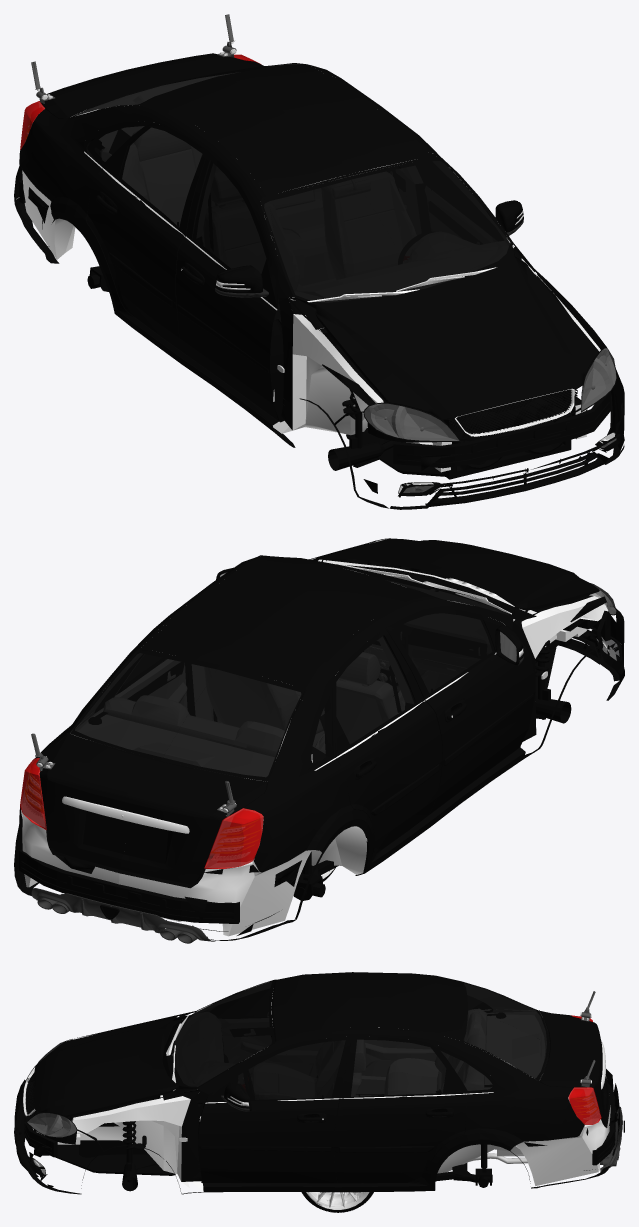
File: gentra.glb
3 views of the same model, one above another, from view 1: azimuth 30°, elevation 25°; view 2: azimuth 150°, elevation 25°; view 3: azimuth 270°, elevation 25° (orthographic). The views are drawn at different scales.
Visible parts, largest first — view 1: chassis, kapot, chassis003, door_rf_ok, door_rr_ok, bumper_r, boot, st002, bumper_f, chassis001, amartizator, Faralar_on (+1 smaller); view 2: chassis, boot, chassis001, door_rf_ok, door_rr_ok, kapot, bumper_r, st, amartizator, chassis003, Fara, rear_light (+1 smaller); view 3: chassis, door_lf_ok, door_lr_ok, kapot, chassis003, chassis001, boot, bumper_r, amartizator, st002, st, wheel_fr (+1 smaller).
Boxes of the visible parts, bbox=[...] form: chassis: bbox=[19, 60, 616, 479]; kapot: bbox=[316, 257, 598, 418]; chassis003: bbox=[262, 158, 509, 303]; door_rf_ok: bbox=[176, 152, 279, 421]; door_rr_ok: bbox=[86, 122, 208, 353]; bumper_r: bbox=[14, 150, 624, 509]; boot: bbox=[31, 14, 260, 118]; st002: bbox=[363, 347, 620, 496]; bumper_f: bbox=[425, 452, 605, 507]; chassis001: bbox=[72, 63, 302, 165]; amartizator: bbox=[87, 266, 403, 470]; Faralar_on: bbox=[405, 369, 605, 437]; chassis: bbox=[19, 538, 616, 936]; boot: bbox=[31, 733, 267, 883]; chassis001: bbox=[69, 650, 333, 781]; door_rf_ok: bbox=[385, 608, 535, 814]; door_rr_ok: bbox=[334, 628, 442, 853]; kapot: bbox=[316, 538, 598, 614]; bumper_r: bbox=[14, 540, 624, 943]; st: bbox=[20, 758, 263, 868]; amartizator: bbox=[293, 640, 571, 900]; chassis003: bbox=[269, 556, 509, 615]; Fara: bbox=[28, 760, 263, 861]; rear_light: bbox=[25, 773, 259, 853]; chassis: bbox=[22, 972, 615, 1192]; door_lf_ok: bbox=[198, 1035, 351, 1183]; door_lr_ok: bbox=[334, 1035, 466, 1183]; kapot: bbox=[34, 1015, 178, 1116]; chassis003: bbox=[172, 981, 273, 1086]; chassis001: bbox=[437, 982, 549, 1093]; boot: bbox=[540, 991, 608, 1124]; bumper_r: bbox=[14, 1011, 624, 1194]; amartizator: bbox=[122, 1121, 492, 1191]; st002: bbox=[26, 1040, 76, 1174]; st: bbox=[568, 1015, 601, 1124]; wheel_fr: bbox=[302, 1192, 365, 1209].
Bounding box in the file's own units: 1.99 × 1.8 × 4.74.
